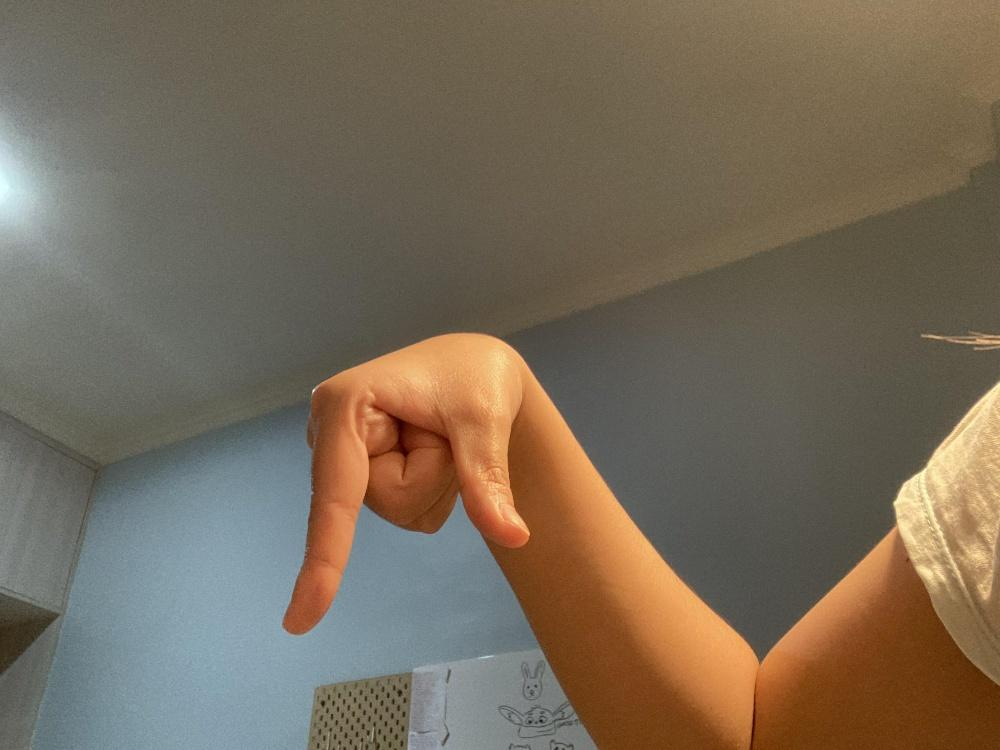q: (281, 331, 529, 635)
